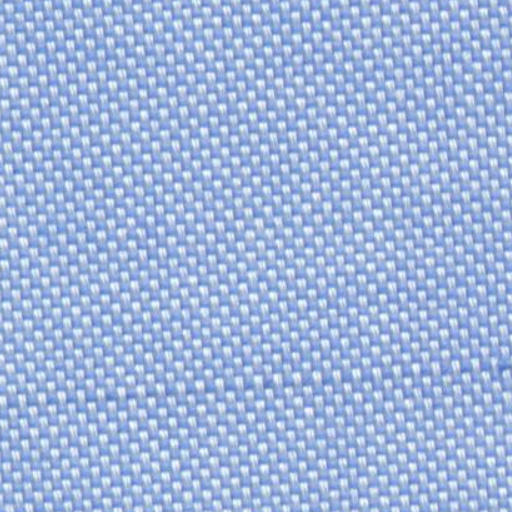TuoSha: (14, 338, 500, 414)
